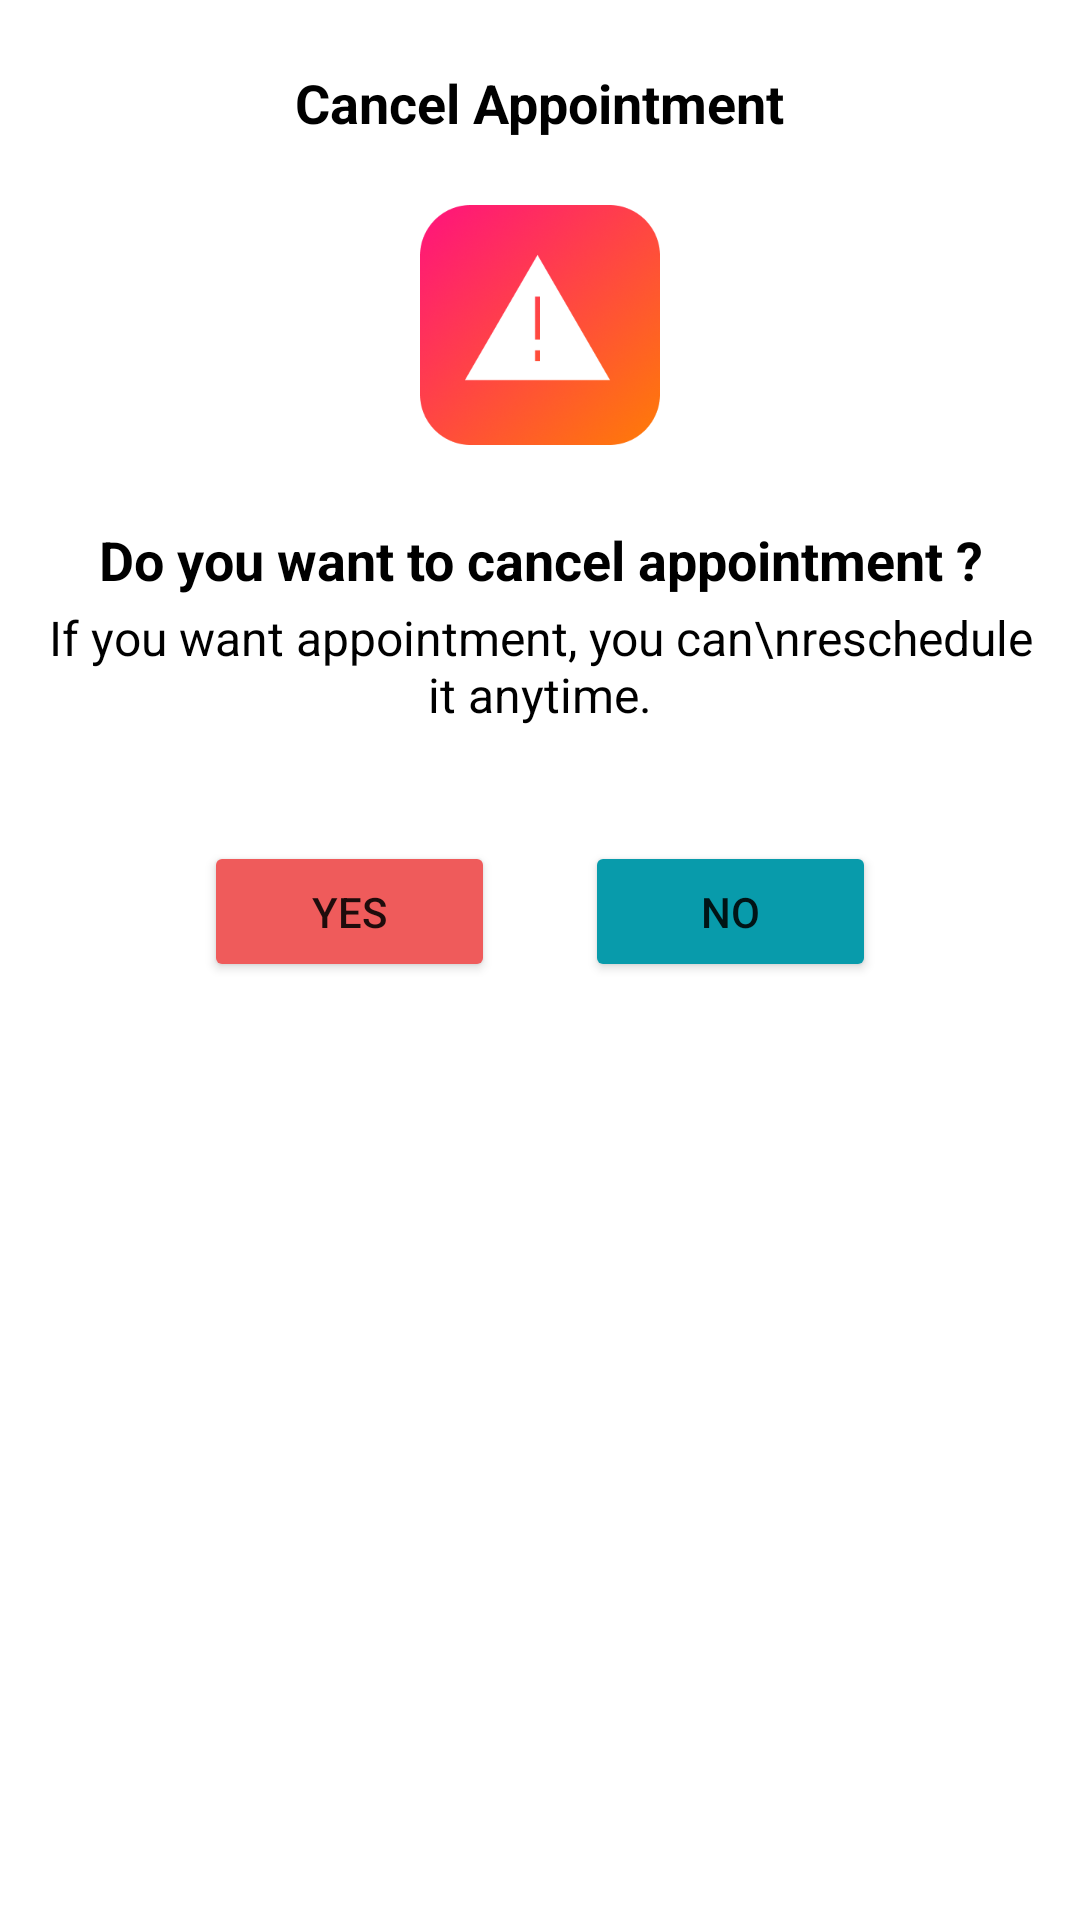

Named icons in this screenshot (1080px×1920px) and their bounding boxes, (x1, y1, x2, y2):
caution: (420, 205, 660, 445)
